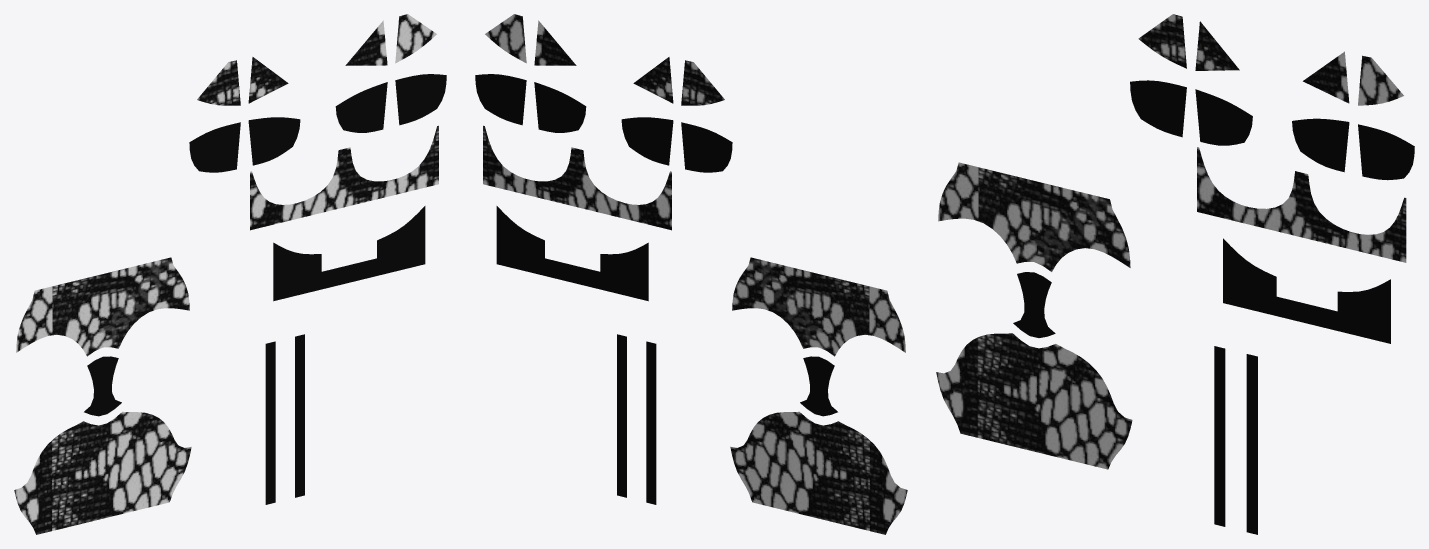
Rendered from InteriorCompleto.obj.
3 renders of one model, left to right at view 1: azimuth 30°, elevation 25°; view 2: azimuth 150°, elevation 25°; view 3: azimuth 330°, elevation 25°, orthographic. The views are drawn at different scales.
Bounding box in the file's own units: 0.9867 × 0.9948 × 0.
Materials: 2 (1 with a texture image).
